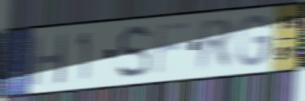1: (75, 29, 92, 84)
F: (152, 20, 191, 78)
G: (236, 13, 274, 69)
H: (29, 30, 70, 89)
R: (196, 17, 236, 74)
S: (116, 23, 153, 82)
